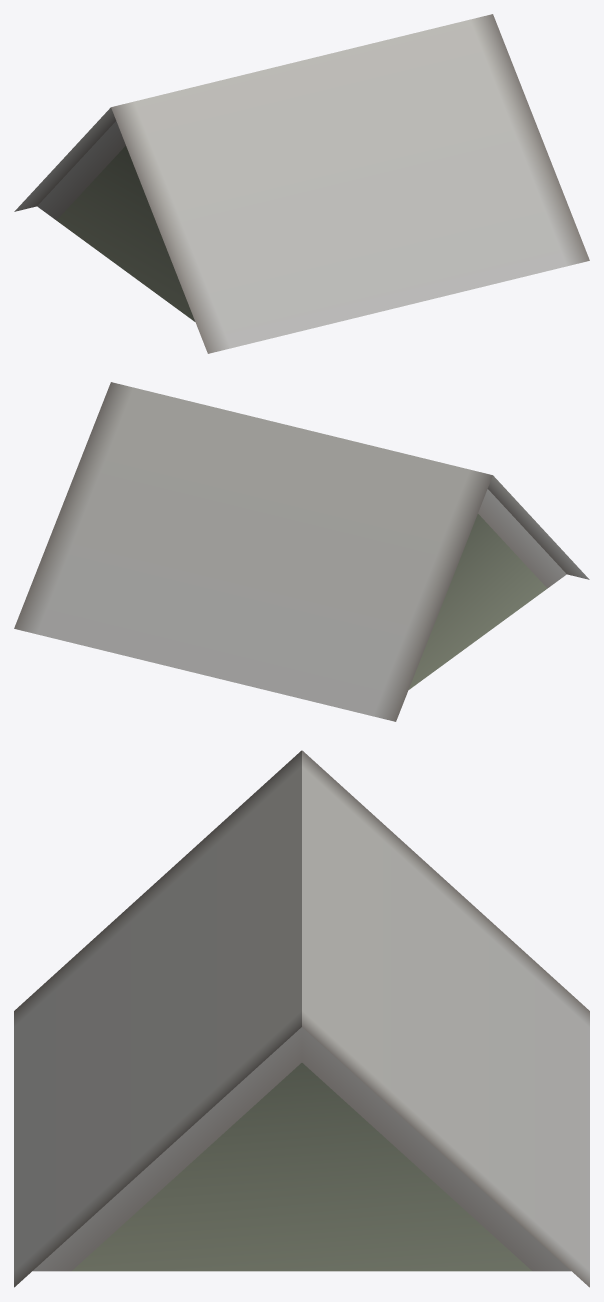
Rendered from wall-b-roof-detailed.glb.
3 renders of one model, top to bottom at view 1: azimuth 30°, elevation 25°; view 2: azimuth 150°, elevation 25°; view 3: azimuth 270°, elevation 25°, orthographic. The views are drawn at different scales.
Parts seen in each view (by area): view 1: wall-b-roof-detailed; view 2: wall-b-roof-detailed; view 3: wall-b-roof-detailed.
Boxes of the visible parts, x1,y1,x2,y2 form: wall-b-roof-detailed: (14, 14, 589, 353); wall-b-roof-detailed: (14, 382, 589, 721); wall-b-roof-detailed: (14, 750, 589, 1287).
Bounding box in the file's own units: 1.14 × 0.5 × 1.
